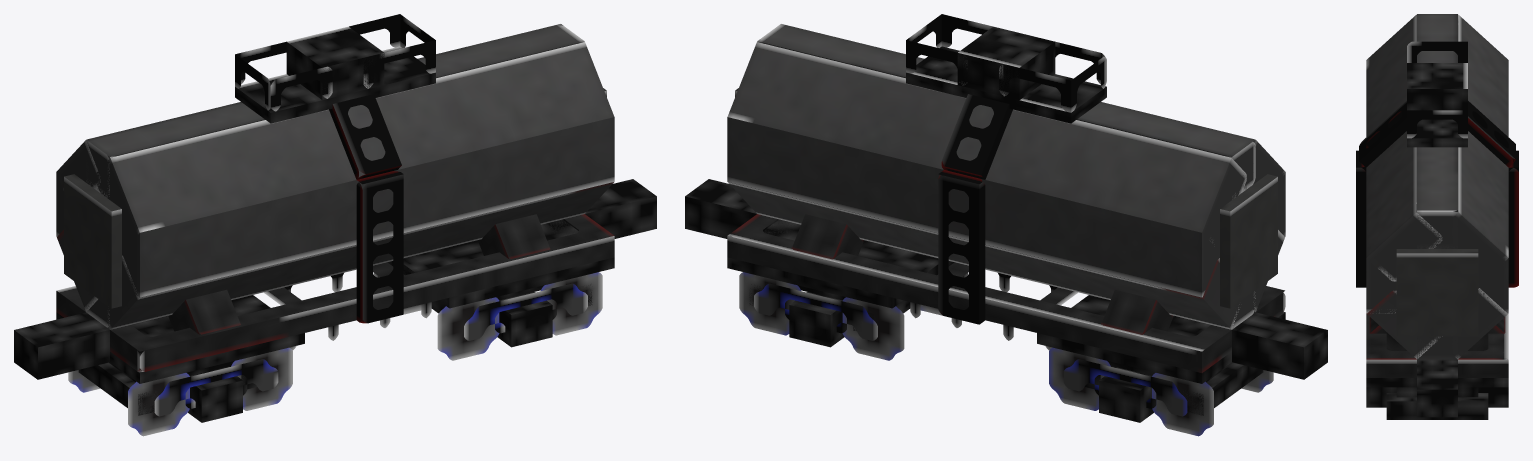
Rendered from tank_us.obj.
The picture shows the model from 3 angles, left to right: view 1: azimuth 30°, elevation 25°; view 2: azimuth 150°, elevation 25°; view 3: azimuth 270°, elevation 25°; orthographic projection. The views are drawn at different scales.
Visible parts, largest first — view 1: box26, box21, box24, box20, box25, box27, box28, box31, box2, box33, box23, box29 (+13 smaller); view 2: box22, box15, box24, box7, box25, box27, box28, box36, box29, box2, box23, box33 (+13 smaller); view 3: box26, box22, box34, box27, box24, box29, box1, box33, box3, box7, box37, box32 (+13 smaller).
Part boxes in pixels (box(x1,y1,x2,y2)): box26: box(94, 42, 614, 250); box21: box(122, 117, 614, 297); box24: box(56, 214, 614, 371); box20: box(98, 182, 613, 329); box25: box(68, 272, 602, 436); box27: box(86, 24, 584, 197); box28: box(64, 174, 121, 308); box31: box(356, 171, 403, 323); box2: box(154, 283, 587, 416); box33: box(235, 14, 435, 111); box23: box(14, 312, 109, 379); box29: box(286, 26, 384, 99); box22: box(727, 42, 1246, 242); box15: box(727, 117, 1219, 297); box24: box(727, 214, 1285, 372); box7: box(728, 182, 1239, 329); box25: box(739, 272, 1273, 436); box27: box(757, 24, 1255, 199); box28: box(1220, 174, 1277, 308); box36: box(938, 170, 985, 324); box29: box(957, 26, 1055, 99); box2: box(754, 283, 1187, 416); box23: box(1232, 312, 1327, 379); box33: box(906, 14, 1106, 112); box26: box(1366, 14, 1442, 281); box22: box(1432, 14, 1508, 283); box34: box(1396, 249, 1478, 336); box27: box(1417, 14, 1457, 248); box24: box(1366, 313, 1508, 377); box29: box(1407, 63, 1467, 110); box1: box(1417, 359, 1457, 417); box33: box(1407, 41, 1467, 138); box3: box(1386, 393, 1488, 419); box7: box(1433, 288, 1508, 359); box37: box(1468, 101, 1515, 167); box32: box(1359, 101, 1406, 167).
Size of the model in its own units: 3.75 by 1.81 by 1.
1 material, 1 textured.
